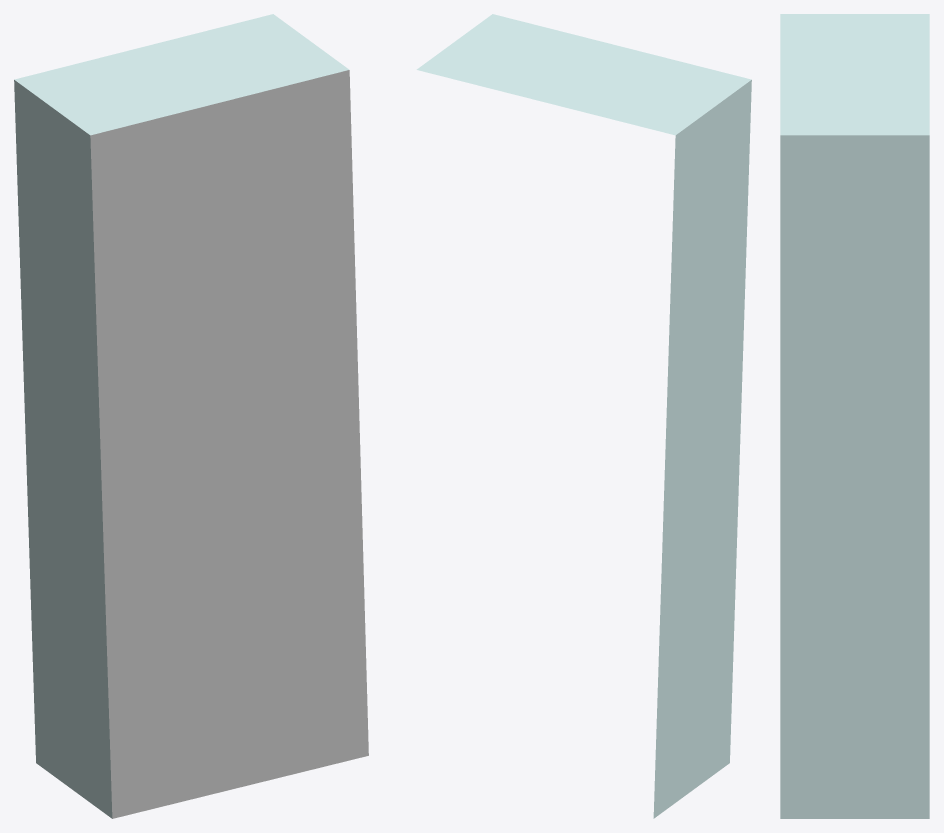
3 views of the same model, side by side, from view 1: azimuth 30°, elevation 25°; view 2: azimuth 150°, elevation 25°; view 3: azimuth 270°, elevation 25° (orthographic). The views are drawn at different scales.
Visible parts, largest first — view 1: 0_0_2_0_3_2_2_3; view 2: 0_0_2_0_3_2_2_3; view 3: 0_0_2_0_3_2_2_3.
Part boxes in pixels (x1,y1,x2,y2): 0_0_2_0_3_2_2_3: [14, 14, 368, 818]; 0_0_2_0_3_2_2_3: [416, 14, 751, 818]; 0_0_2_0_3_2_2_3: [780, 14, 929, 818].
Bounding box in the file's own units: 6.32 × 14.99 × 3.
